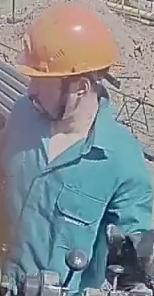helmet: (15, 0, 118, 84)
vest: (1, 89, 153, 294)
